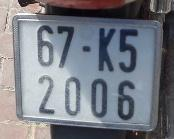0: (88, 75, 111, 121), (62, 75, 82, 119)
2: (36, 74, 57, 117)
5: (118, 26, 139, 76)
6: (115, 76, 136, 122), (34, 23, 55, 68)
7: (56, 23, 75, 73)
K: (92, 24, 114, 72)
